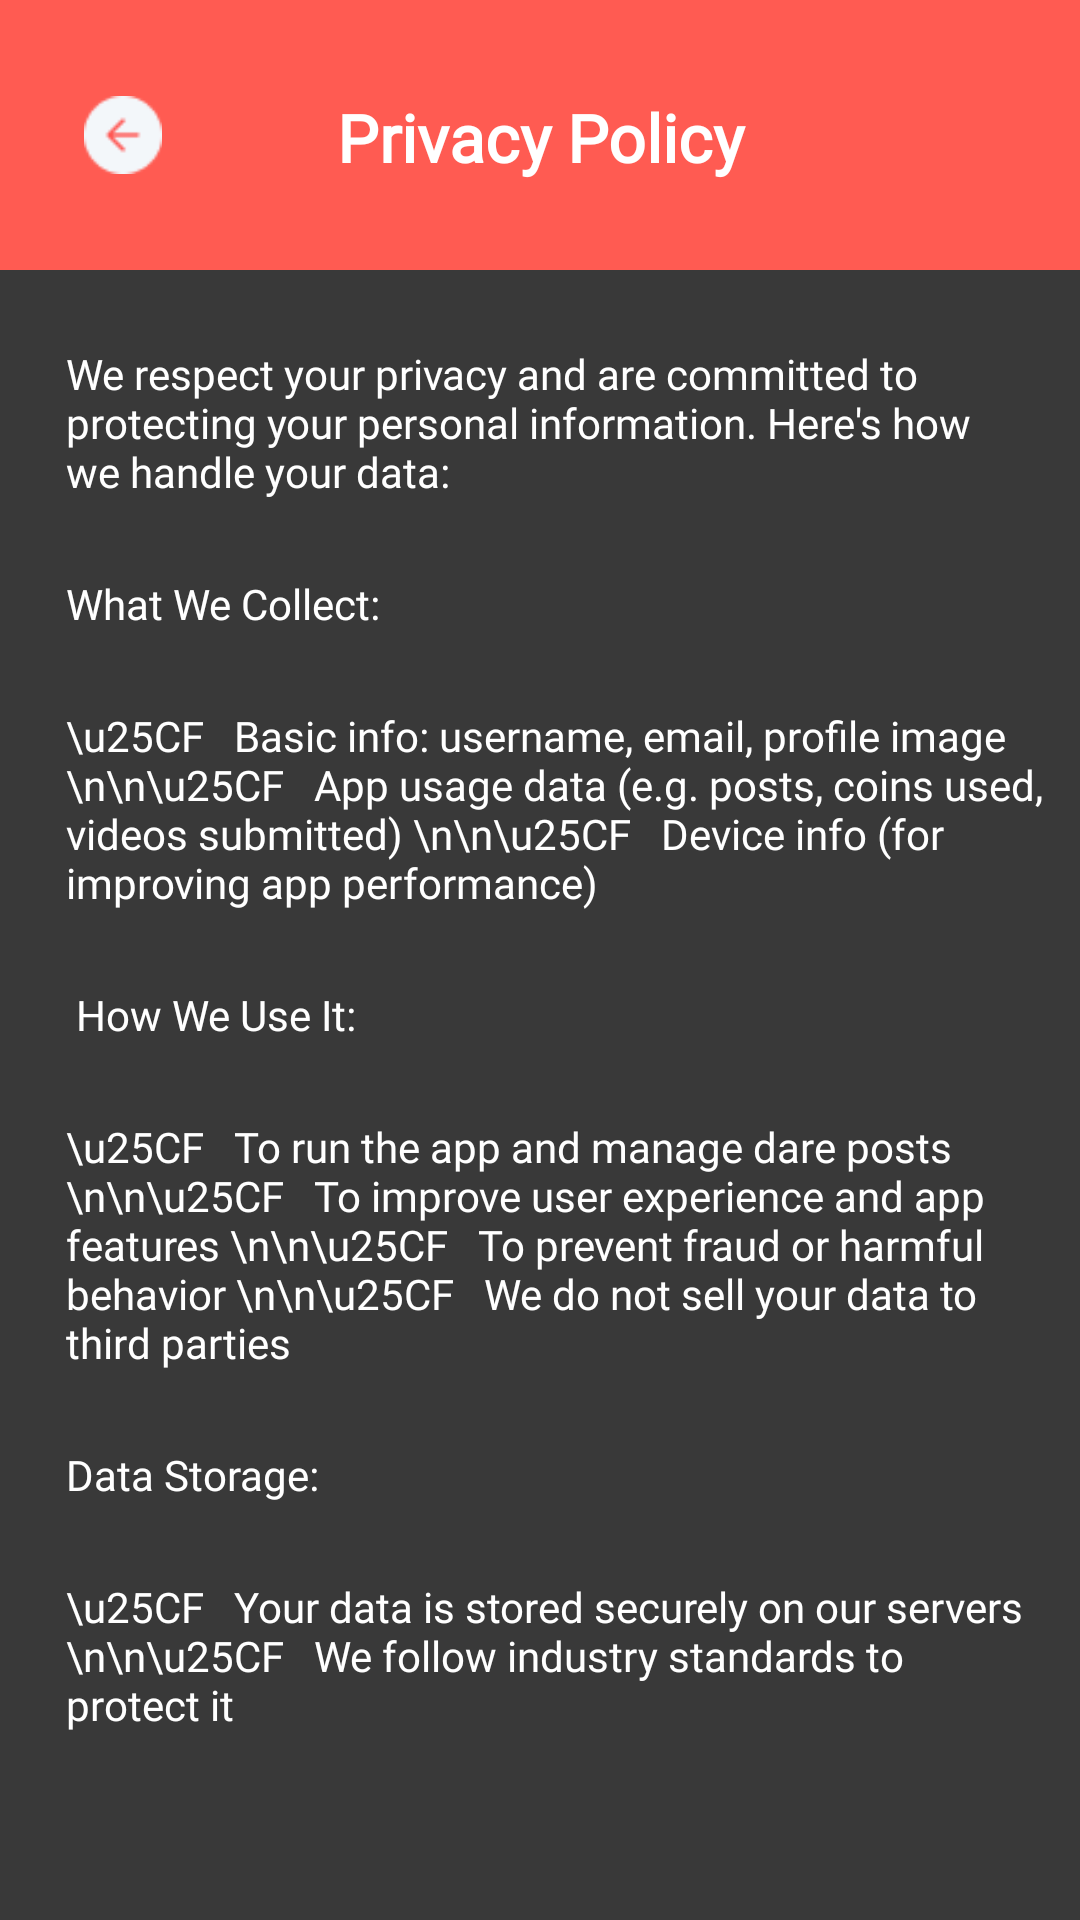

Icon click points for this 1080*1920 phone screenshot, format (x=x, y=y):
back: (x=123, y=135)
